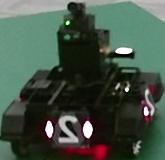armor_2: (45, 119, 93, 140)
front_2: (53, 112, 84, 147)
